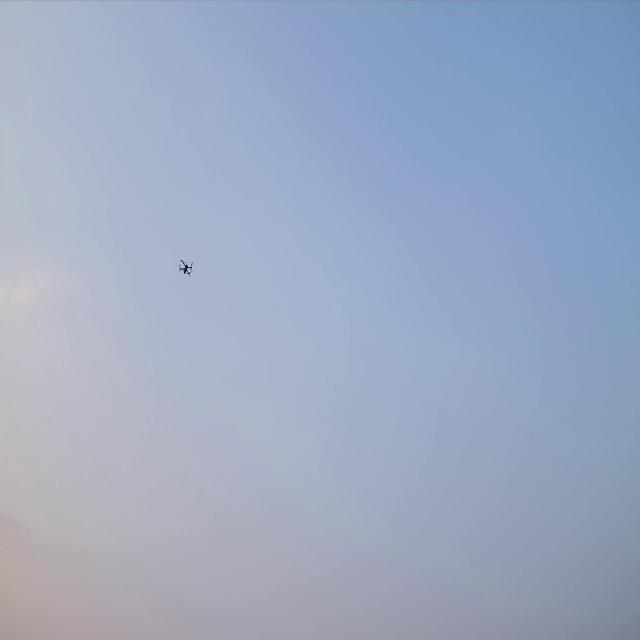UAV: (178, 258, 194, 278)
